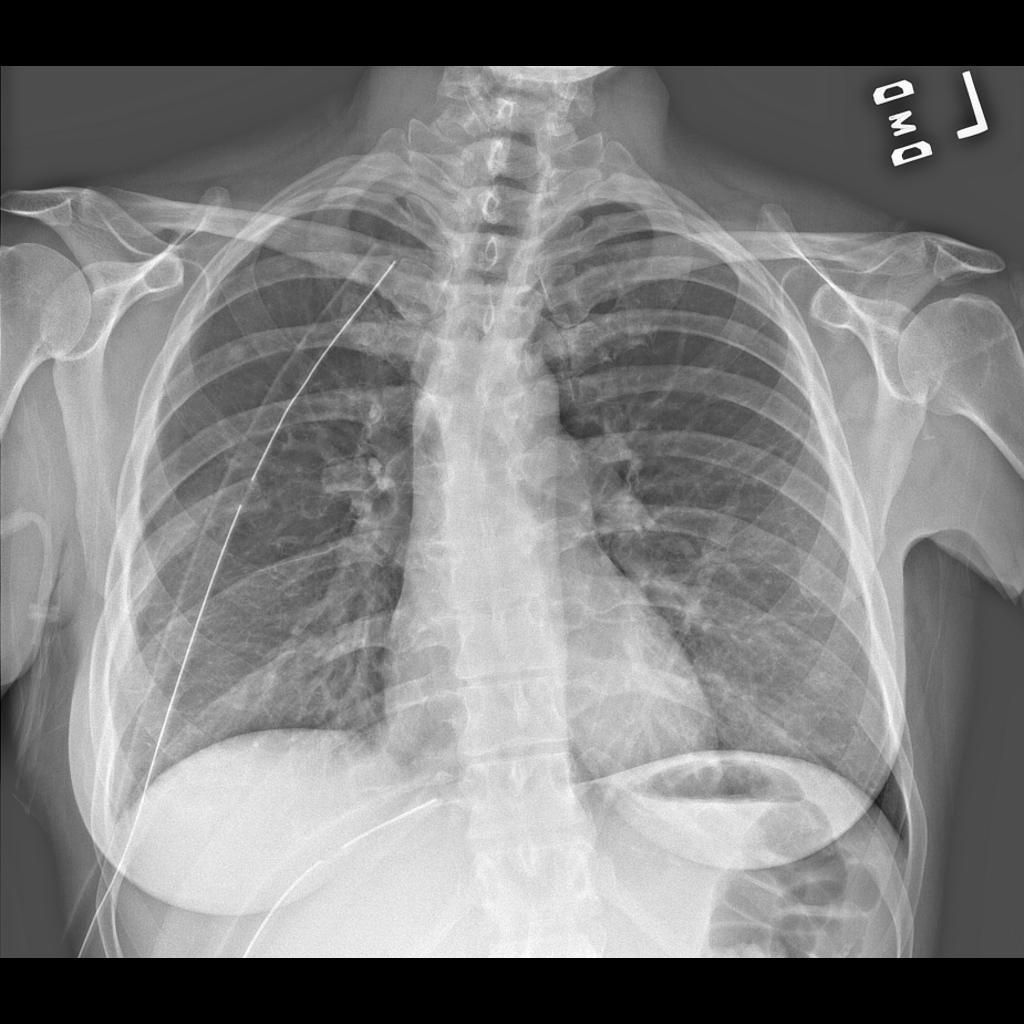Nodule: (222, 338, 251, 373)
